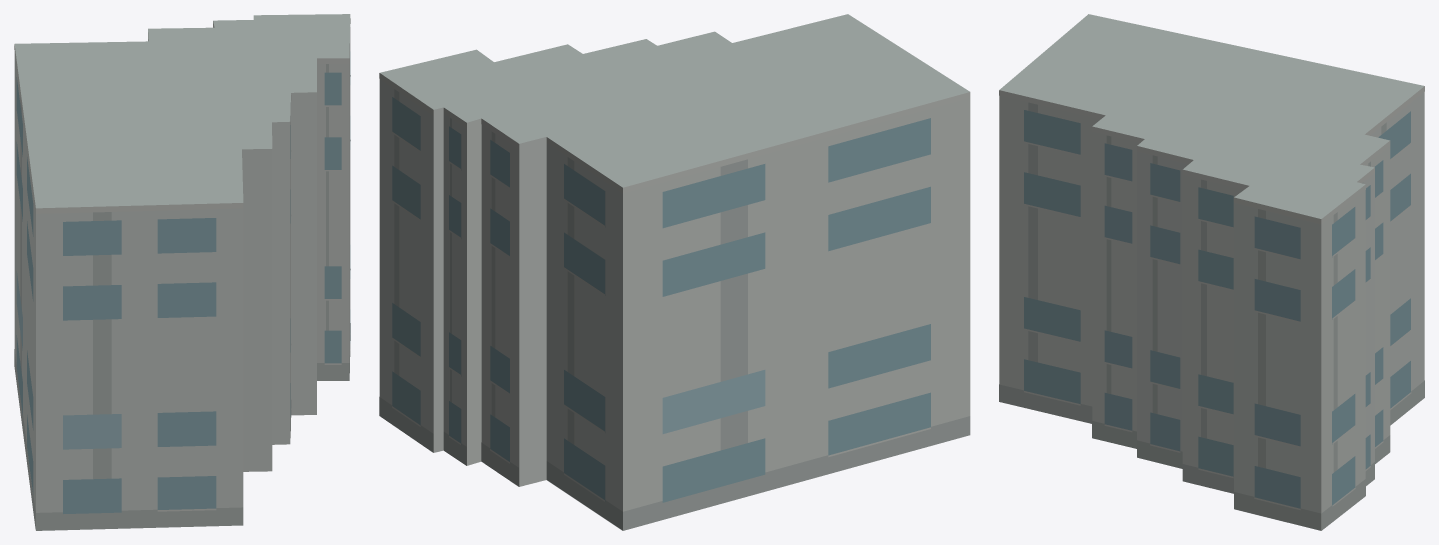
Rendered from survey-upis-32532585.glb.
The picture shows the model from 3 angles, left to right: view 1: azimuth 30°, elevation 25°; view 2: azimuth 150°, elevation 25°; view 3: azimuth 270°, elevation 25°; orthographic projection. The views are drawn at different scales.
Parts seen in each view (by area): view 1: survey-upis-32532585.tmp; view 2: survey-upis-32532585.tmp; view 3: survey-upis-32532585.tmp.
Boxes of the visible parts, x1=… form: survey-upis-32532585.tmp: x1=14, y1=14, x2=350, y2=530; survey-upis-32532585.tmp: x1=379, y1=14, x2=970, y2=530; survey-upis-32532585.tmp: x1=999, y1=14, x2=1424, y2=530.
Size of the model in its own units: 19.62 by 13.9 by 17.21.
